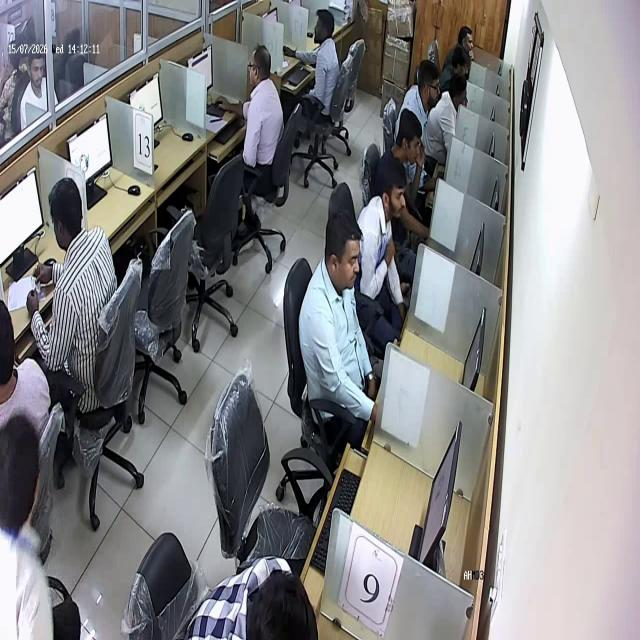paper-chit: (31, 276, 41, 294)
